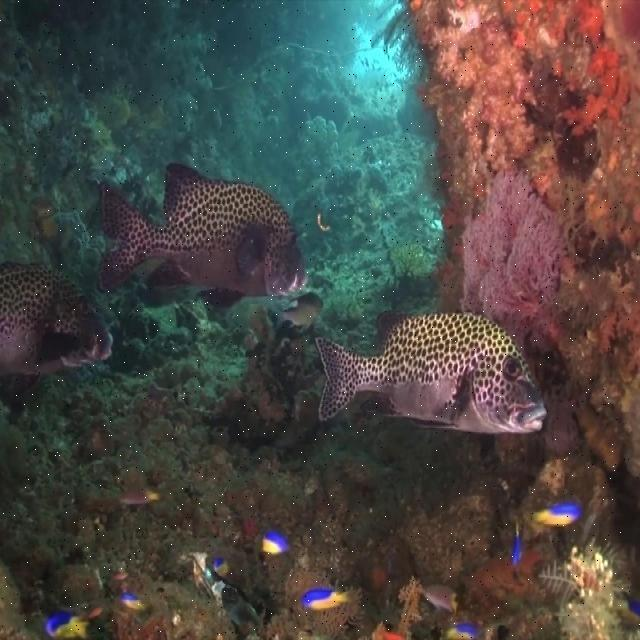fish: (315, 310, 548, 435), (98, 162, 306, 298), (1, 263, 113, 375)
reefs: (408, 0, 639, 481)
